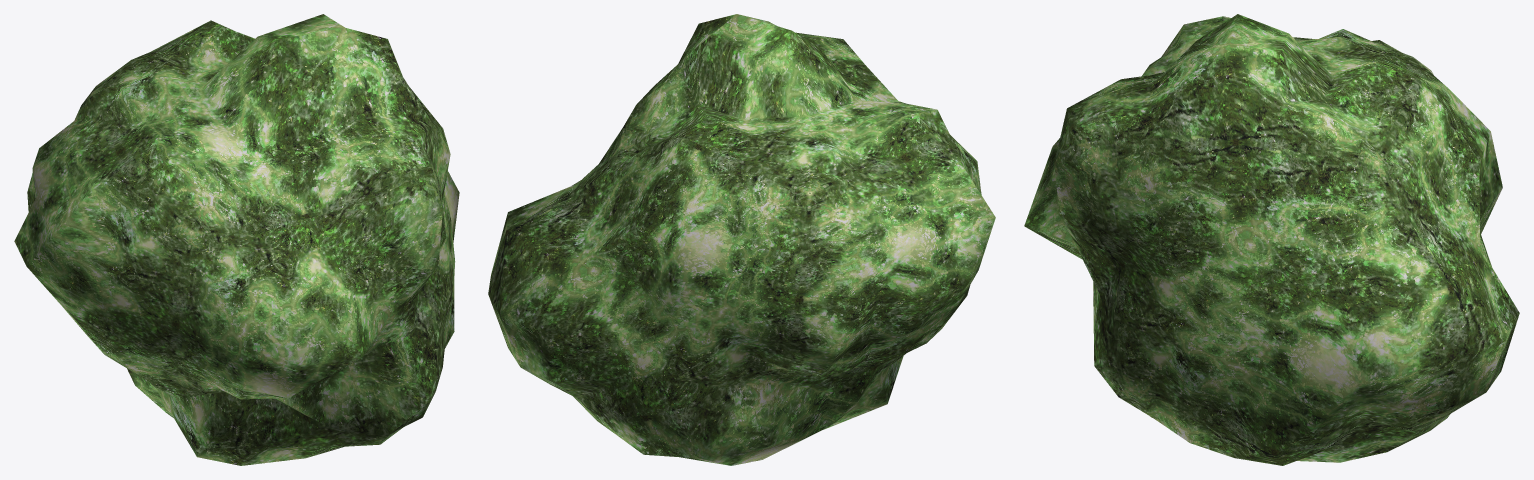
File: asteroid_acid_medium_s02_l0.fbx
The picture shows the model from 3 angles, left to right: view 1: azimuth 30°, elevation 25°; view 2: azimuth 150°, elevation 25°; view 3: azimuth 270°, elevation 25°; orthographic projection. The views are drawn at different scales.
Visible parts, largest first — view 1: mesh_node; view 2: mesh_node; view 3: mesh_node.
Boxes of the visible parts, box(x1,y1,x2,y2) form: mesh_node: box(14, 14, 459, 465); mesh_node: box(488, 14, 995, 465); mesh_node: box(1024, 14, 1519, 465).
Size of the model in its own units: 75.54 by 65 by 71.47.
1 material, 1 textured.
